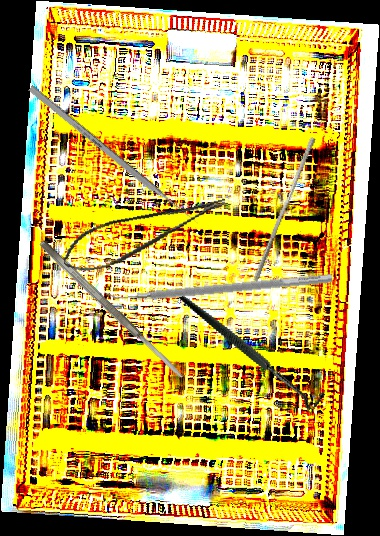Hook Surgical: (179, 259, 329, 440)
Micro Scissor: (56, 192, 235, 279)
Pusher: (27, 84, 201, 228), (252, 134, 317, 285)
Spatula Surgical: (37, 238, 187, 383), (103, 263, 333, 307)
